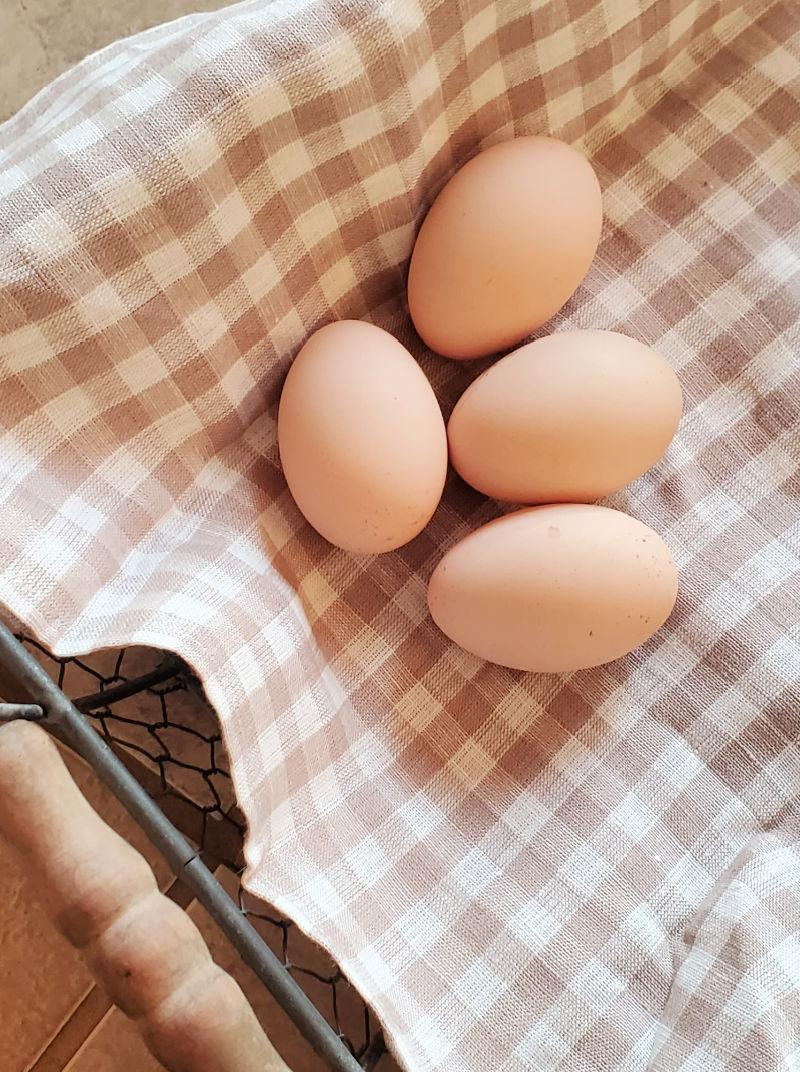egg: (405, 122, 615, 365), (430, 316, 692, 509), (270, 311, 463, 564), (429, 495, 688, 676)
